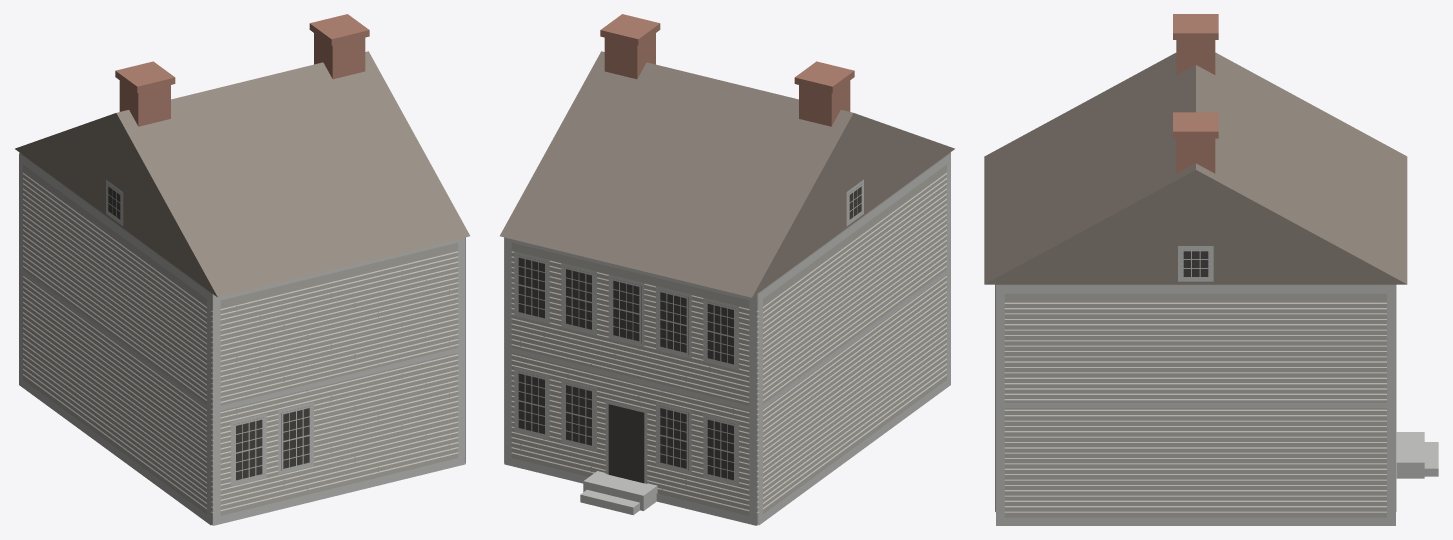
File: recon_1835_blk_school_section_tier_95_d7_06__inferred_1835.glb
3 views of the same model, side by side, from view 1: azimuth 30°, elevation 25°; view 2: azimuth 150°, elevation 25°; view 3: azimuth 270°, elevation 25° (orthographic). The views are drawn at different scales.
Parts seen in each view (by area): view 1: recon_1835_blk_school_section_tier_95_d7_06__inferred_1835; view 2: recon_1835_blk_school_section_tier_95_d7_06__inferred_1835; view 3: recon_1835_blk_school_section_tier_95_d7_06__inferred_1835.
Boxes of the visible parts, left/top/right/bottom form: recon_1835_blk_school_section_tier_95_d7_06__inferred_1835: left=15, top=14, right=469, bottom=525; recon_1835_blk_school_section_tier_95_d7_06__inferred_1835: left=500, top=14, right=954, bottom=525; recon_1835_blk_school_section_tier_95_d7_06__inferred_1835: left=984, top=14, right=1438, bottom=525.
Bounding box in the file's own units: 6.61 × 9.21 × 9.76.
